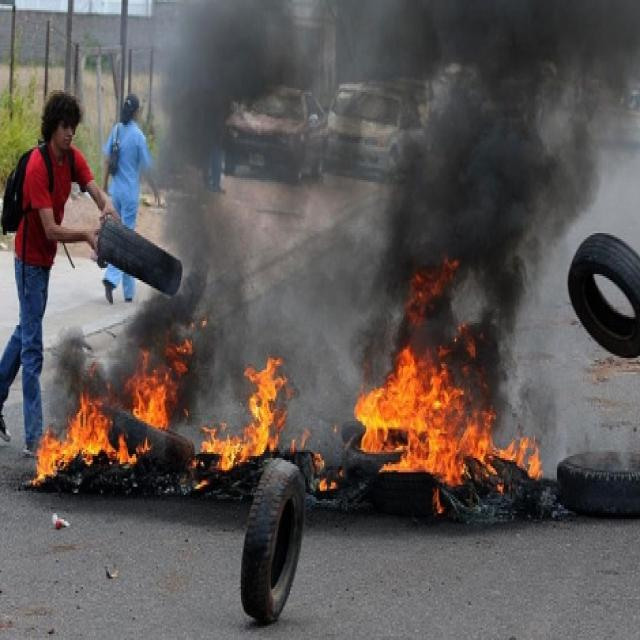fire: (354, 341, 495, 486), (199, 354, 288, 470), (35, 391, 138, 485), (127, 338, 193, 431), (406, 256, 458, 327), (497, 432, 543, 480)
